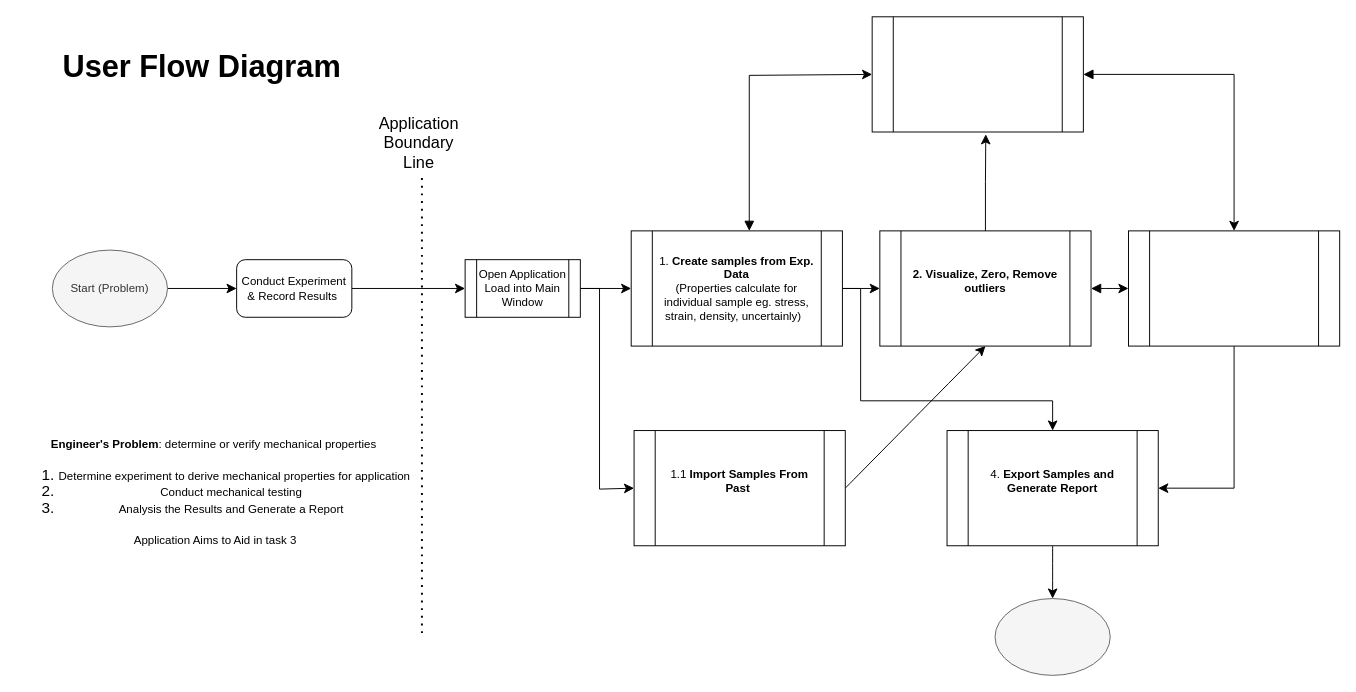
Some shapes in this 1356 by 692 pixel diagram are drawn without their labels. The shapes that lost their labels are listed below. From the top down, each one's centre as x and y in pixels, then its label:
At (977,74): "Update Assumption, Configuration, or Settings".
At (1234,288): "3. Aggregate Samples (Generate Aggerate KPI's)".
At (1052,636): "End (Problem)".
